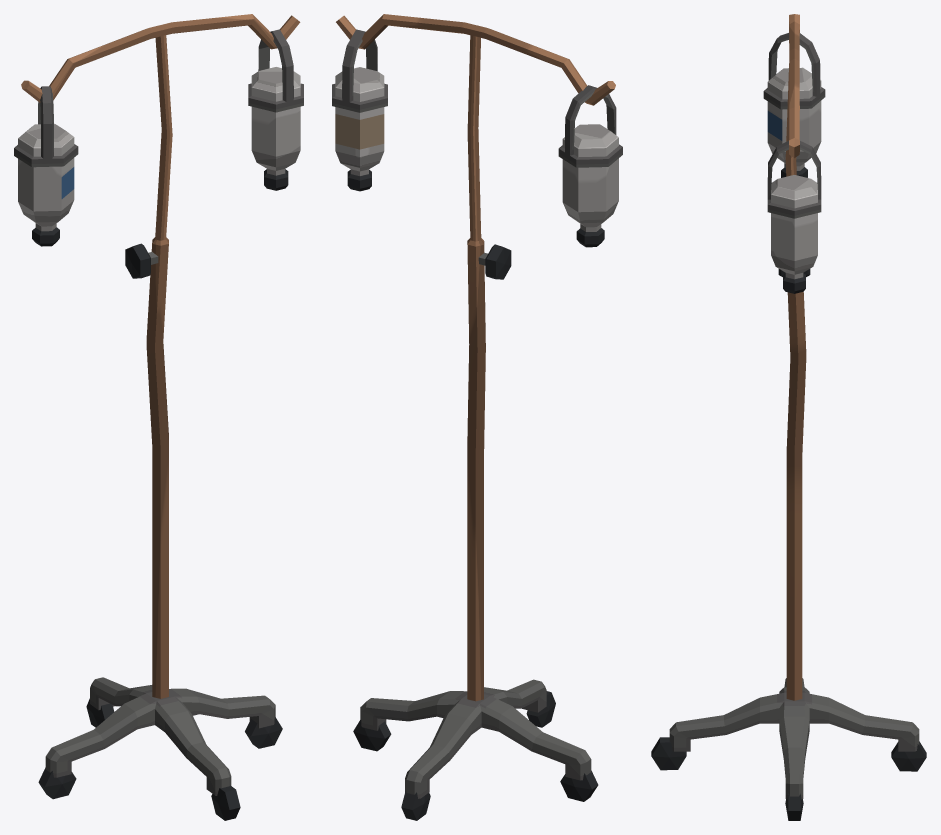
Rendered from SM_Prop_Stand_IV_01.fbx.
3 renders of one model, left to right at view 1: azimuth 30°, elevation 25°; view 2: azimuth 150°, elevation 25°; view 3: azimuth 270°, elevation 25°, orthographic. The views are drawn at different scales.
Parts seen in each view (by area): view 1: SM_Prop_Stand_IV_01; view 2: SM_Prop_Stand_IV_01; view 3: SM_Prop_Stand_IV_01.
Part boxes in pixels (x1,y1,x2,y2): SM_Prop_Stand_IV_01: [14, 14, 303, 820]; SM_Prop_Stand_IV_01: [332, 14, 622, 820]; SM_Prop_Stand_IV_01: [651, 14, 926, 820].
Size of the model in its own units: 79.04 by 199 by 69.34.
